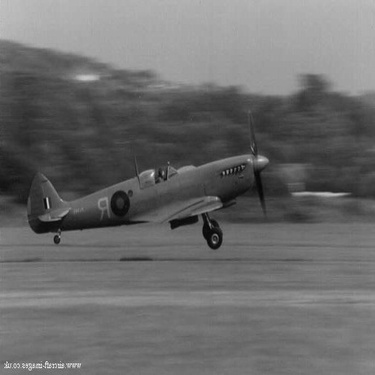airplane: (17, 105, 273, 256)
